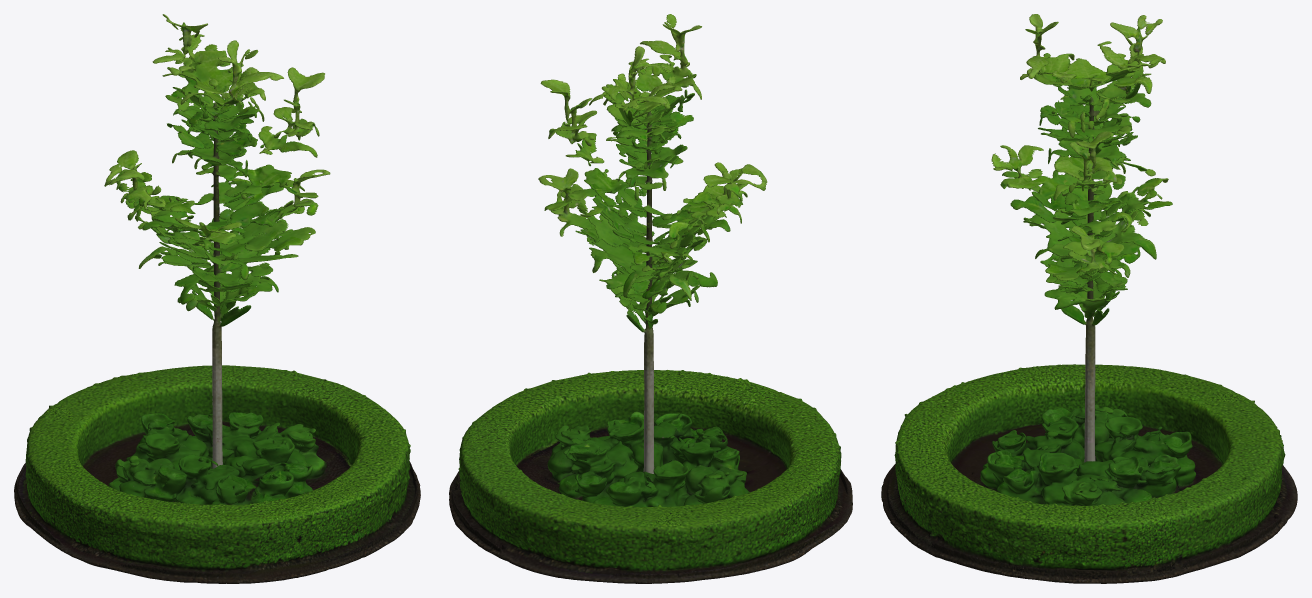
Rendered from plantarecta.glb.
3 views of the same model, side by side, from view 1: azimuth 30°, elevation 25°; view 2: azimuth 150°, elevation 25°; view 3: azimuth 270°, elevation 25° (orthographic). The views are drawn at different scales.
Parts seen in each view (by area): view 1: tripo_node_034e5603-4fd0-4983-8e4a-36cb47569f07; view 2: tripo_node_034e5603-4fd0-4983-8e4a-36cb47569f07; view 3: tripo_node_034e5603-4fd0-4983-8e4a-36cb47569f07.
Boxes of the visible parts, box(x1,y1,x2,y2) form: tripo_node_034e5603-4fd0-4983-8e4a-36cb47569f07: box(14, 14, 420, 583); tripo_node_034e5603-4fd0-4983-8e4a-36cb47569f07: box(449, 14, 852, 583); tripo_node_034e5603-4fd0-4983-8e4a-36cb47569f07: box(881, 14, 1297, 583).
Size of the model in its own units: 0.7892 by 1 by 0.7909.
Materials: 1 (1 with a texture image).
